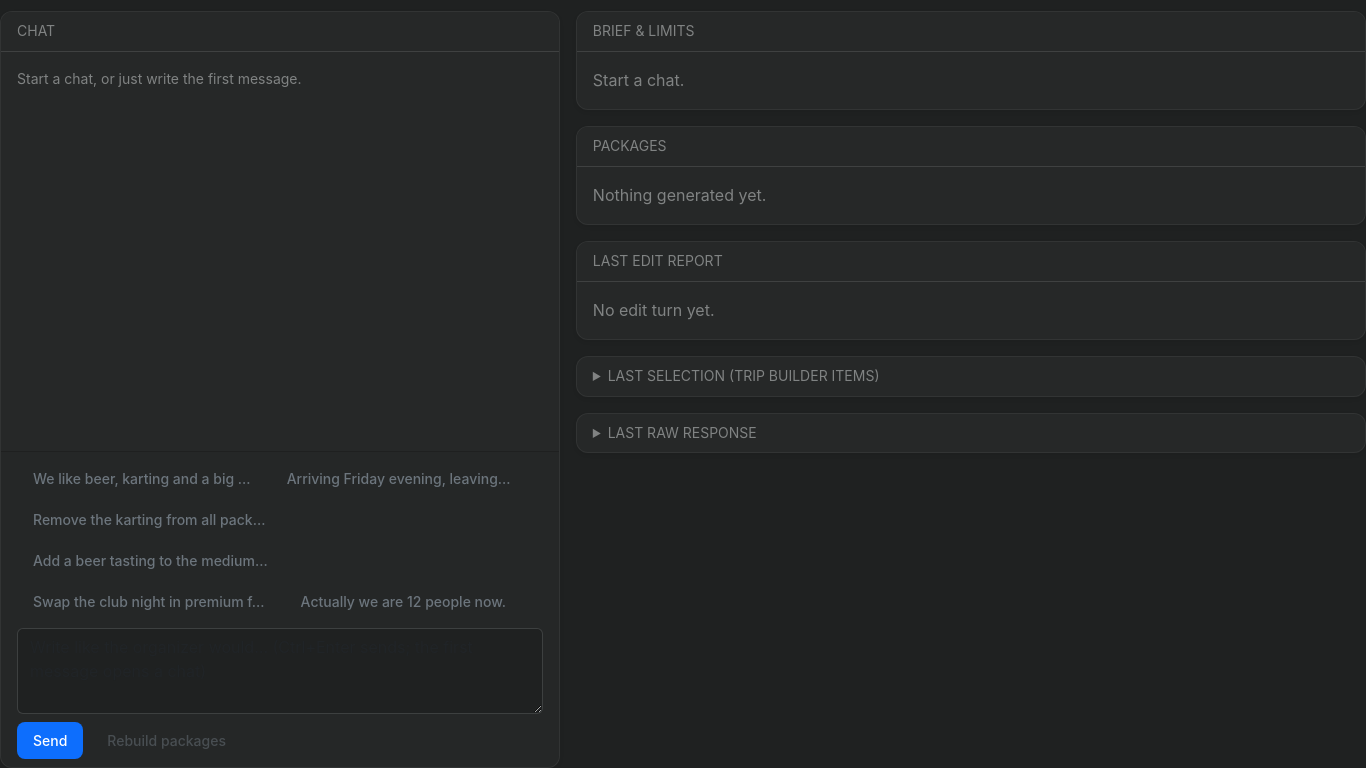
a turn that starts a generation is polled: the skeleton shows with texts pending, then the finished packages
(page scrolled)
Type "3 days, 8 guys, beer and karting, landing Friday evening." into the text box labelled "message" at (280, 671), box x1=17 y1=628 x2=543 y2=714
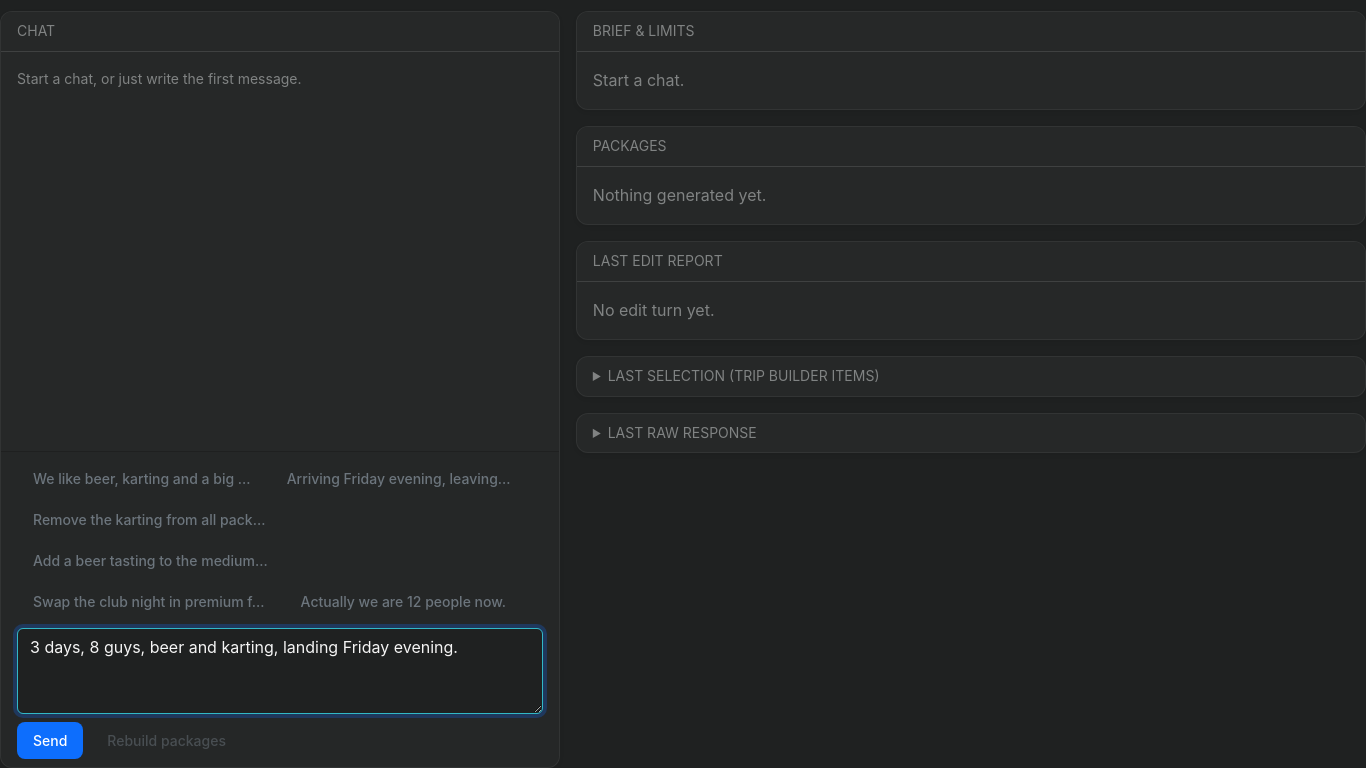
Click the button "Send" at (50, 740), box x1=17 y1=722 x2=83 y2=759
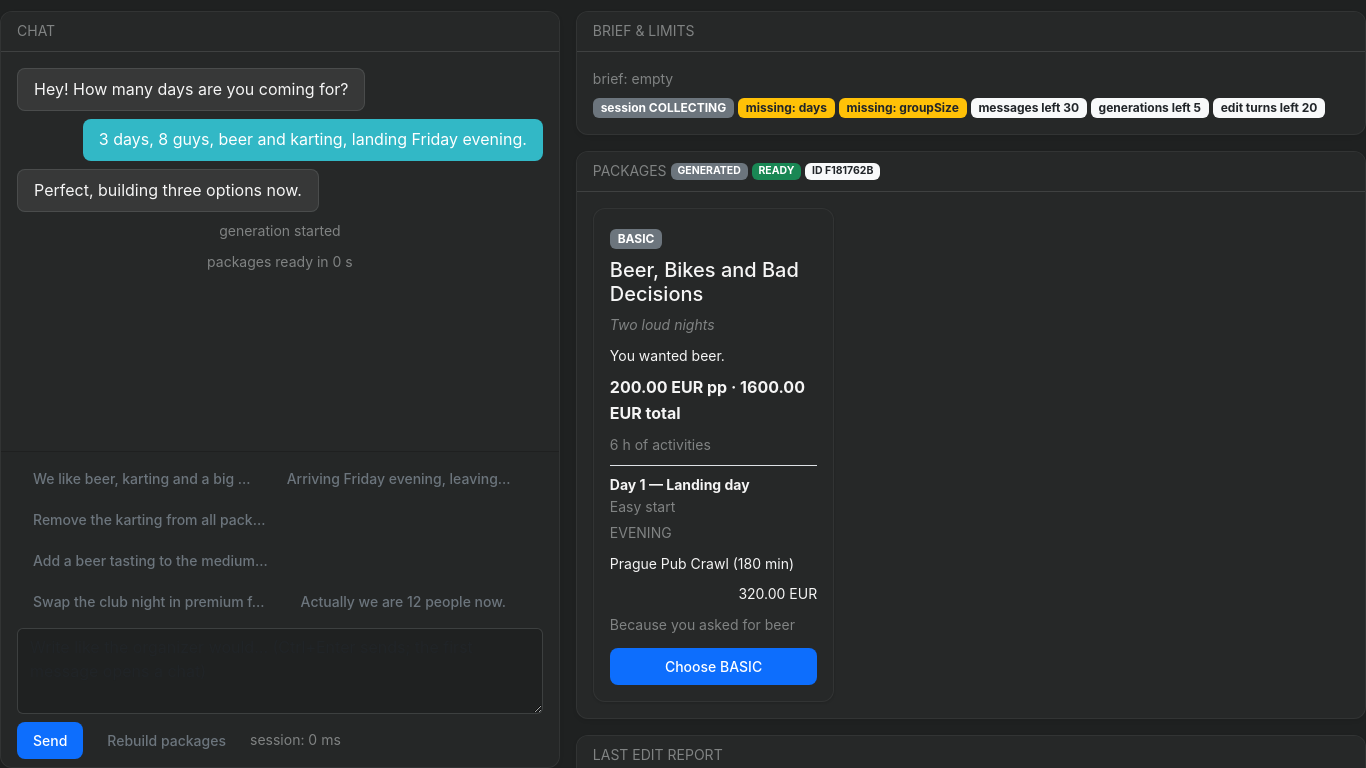
Result: the text "generation started" is shown at x1=219 y1=222 x2=341 y2=239
Result: the heading "Beer, Bikes and Bad Decisions" is shown at x1=610 y1=258 x2=817 y2=306
Result: the text "packages ready in 0 s" is shown at x1=207 y1=253 x2=353 y2=270
